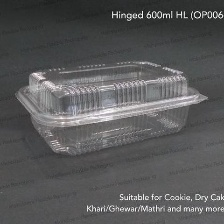plastic_box: (5, 49, 214, 164)
